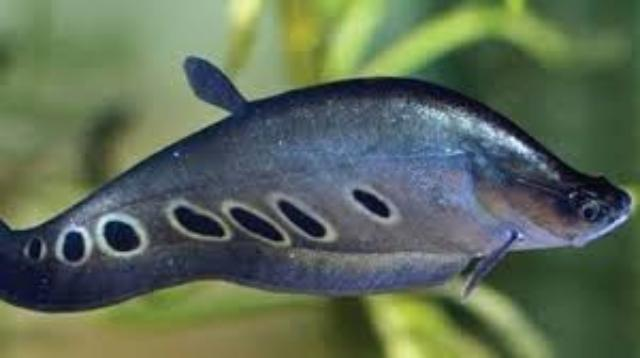Mulut: (566, 179, 640, 251)
Sirip Dada: (443, 216, 533, 314)
Sirip Punggung: (173, 48, 264, 122)
